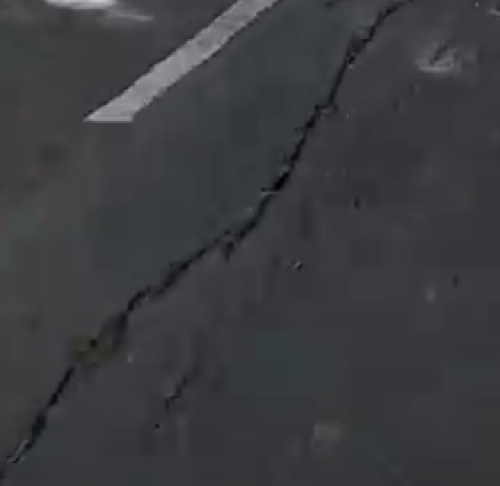Retak Memanjang: (7, 9, 403, 468)
